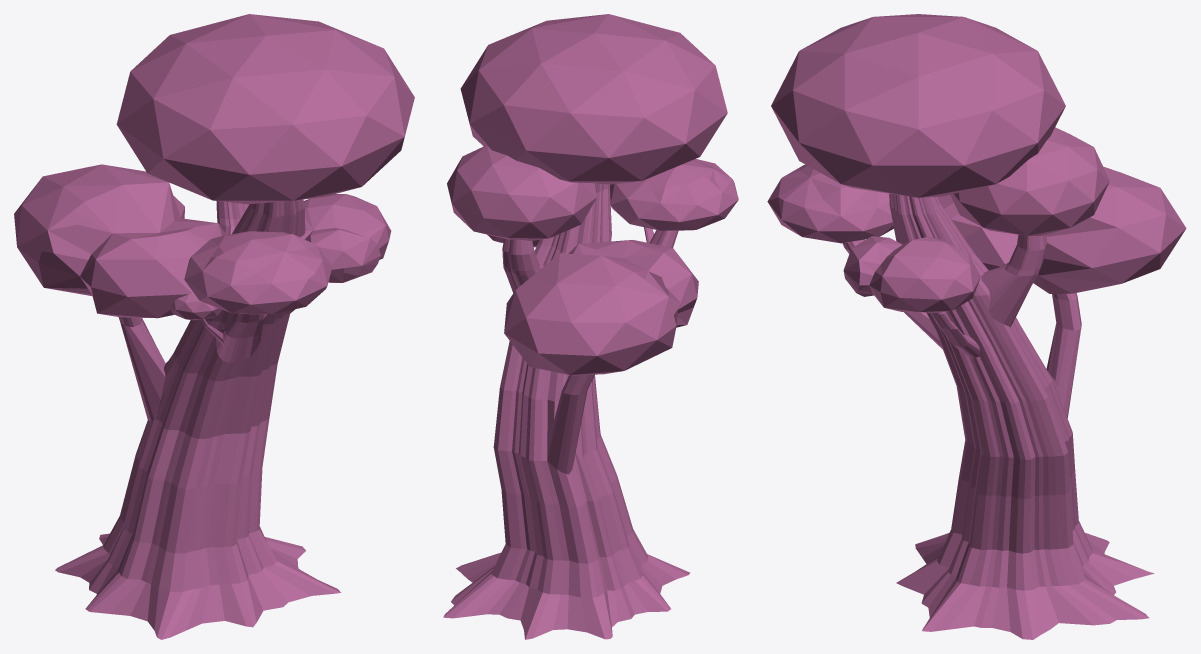
Rendered from Mo_ForestTree03.fbx.
The picture shows the model from 3 angles, left to right: view 1: azimuth 30°, elevation 25°; view 2: azimuth 150°, elevation 25°; view 3: azimuth 270°, elevation 25°; orthographic projection. The views are drawn at different scales.
Parts seen in each view (by area): view 1: Cube.005; view 2: Cube.005; view 3: Cube.005.
Boxes of the visible parts, <box> form: Cube.005: <box>14,14,414,639</box>; Cube.005: <box>443,14,738,639</box>; Cube.005: <box>767,14,1186,639</box>.
Size of the model in its own units: 4474 by 8651 by 5847.
